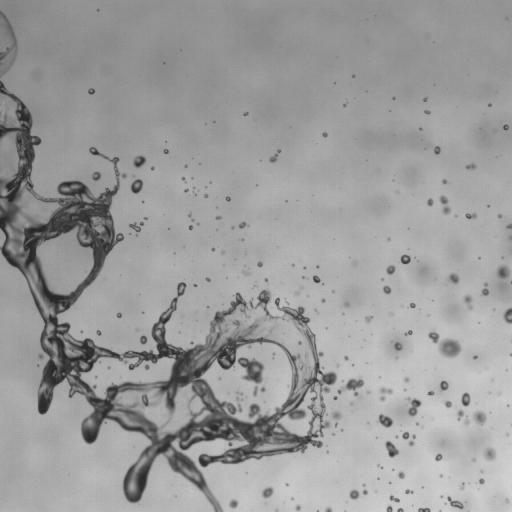droplet: (337, 377, 363, 397), (407, 397, 421, 416), (379, 386, 393, 401), (377, 414, 393, 427), (385, 441, 398, 457), (472, 410, 486, 424), (496, 264, 509, 278), (402, 432, 415, 446), (133, 155, 146, 168), (130, 179, 142, 193), (331, 410, 341, 426), (484, 447, 495, 461), (130, 222, 143, 232), (503, 307, 511, 323), (461, 392, 470, 406), (262, 487, 273, 498), (448, 273, 459, 283), (400, 254, 410, 264), (349, 489, 359, 499), (481, 283, 488, 295), (386, 265, 395, 274), (229, 499, 238, 508), (457, 409, 464, 420), (92, 171, 100, 180), (383, 285, 391, 294), (139, 335, 147, 344), (440, 381, 448, 390), (394, 342, 402, 350), (313, 275, 320, 283), (444, 400, 451, 407), (435, 453, 442, 460), (434, 146, 440, 154), (427, 198, 433, 206), (239, 222, 247, 228), (464, 417, 470, 425), (398, 471, 404, 479), (466, 164, 475, 169), (365, 316, 372, 322), (88, 88, 94, 94), (478, 478, 484, 484), (386, 505, 392, 511), (405, 330, 412, 335), (459, 483, 464, 490), (295, 504, 300, 511), (409, 303, 415, 308), (362, 489, 367, 495), (242, 271, 249, 275), (427, 391, 434, 395), (405, 489, 412, 493), (325, 507, 332, 511), (503, 124, 508, 129), (322, 132, 327, 137), (344, 302, 349, 307), (116, 312, 121, 317), (96, 330, 101, 335), (144, 364, 149, 369), (404, 377, 409, 382), (397, 508, 404, 511), (425, 110, 430, 114), (226, 196, 230, 201), (497, 214, 502, 218), (257, 262, 262, 266), (164, 149, 168, 153), (181, 177, 185, 181), (442, 179, 446, 183), (188, 225, 192, 229), (507, 224, 511, 228), (295, 291, 299, 295), (473, 355, 477, 359), (344, 356, 348, 360), (243, 112, 247, 115), (216, 216, 220, 219), (206, 277, 209, 281), (265, 278, 268, 282), (333, 396, 337, 399), (509, 235, 511, 240), (151, 166, 154, 169), (185, 189, 188, 192), (211, 247, 214, 250), (221, 251, 224, 254), (472, 458, 475, 461), (322, 298, 324, 302), (205, 194, 207, 197), (188, 214, 191, 216), (390, 312, 392, 315), (379, 466, 382, 468), (286, 483, 288, 486), (506, 499, 508, 502), (424, 98, 426, 100), (344, 104, 346, 106), (231, 226, 233, 228), (388, 238, 390, 240), (303, 276, 305, 278), (194, 284, 196, 286), (367, 391, 369, 393), (481, 470, 483, 472)
ligament: (0, 79, 337, 511), (0, 11, 17, 77), (428, 329, 461, 357), (446, 496, 463, 508), (439, 196, 450, 214), (269, 149, 280, 162), (463, 295, 473, 309), (389, 495, 399, 502), (465, 213, 476, 218), (418, 507, 430, 511), (510, 353, 511, 356), (275, 510, 278, 511)
